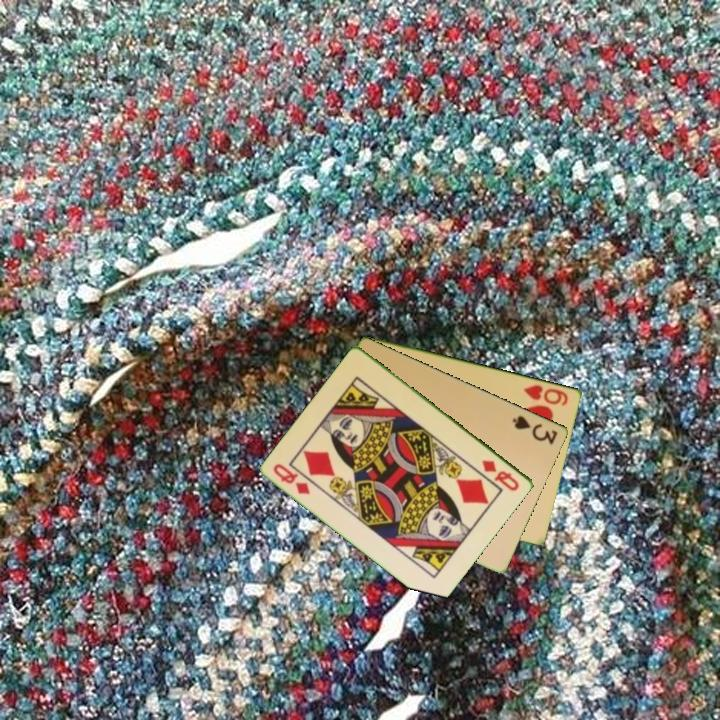3s: (509, 412, 561, 448)
6h: (520, 381, 571, 408)
Qd: (479, 456, 522, 494), (270, 460, 314, 497)
